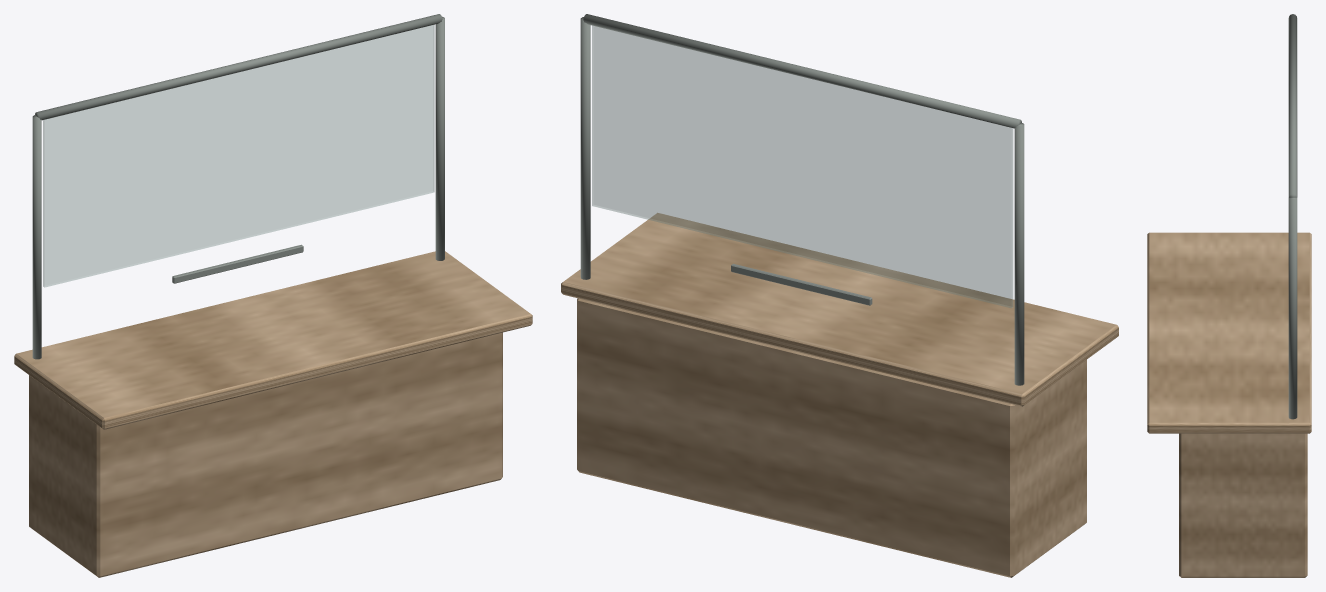
Rendered from reception-counter.glb.
The picture shows the model from 3 angles, left to right: view 1: azimuth 30°, elevation 25°; view 2: azimuth 150°, elevation 25°; view 3: azimuth 270°, elevation 25°; orthographic projection. The views are drawn at different scales.
Parts seen in each view (by area): view 1: reception-counter; view 2: reception-counter; view 3: reception-counter.
Part boxes in pixels (<box>): reception-counter: <box>14,14,532,577</box>; reception-counter: <box>561,14,1118,577</box>; reception-counter: <box>1147,14,1311,577</box>.
Bounding box in the file's own units: 2.65 × 2.48 × 0.96.
Materials: 4 (1 with a texture image).
